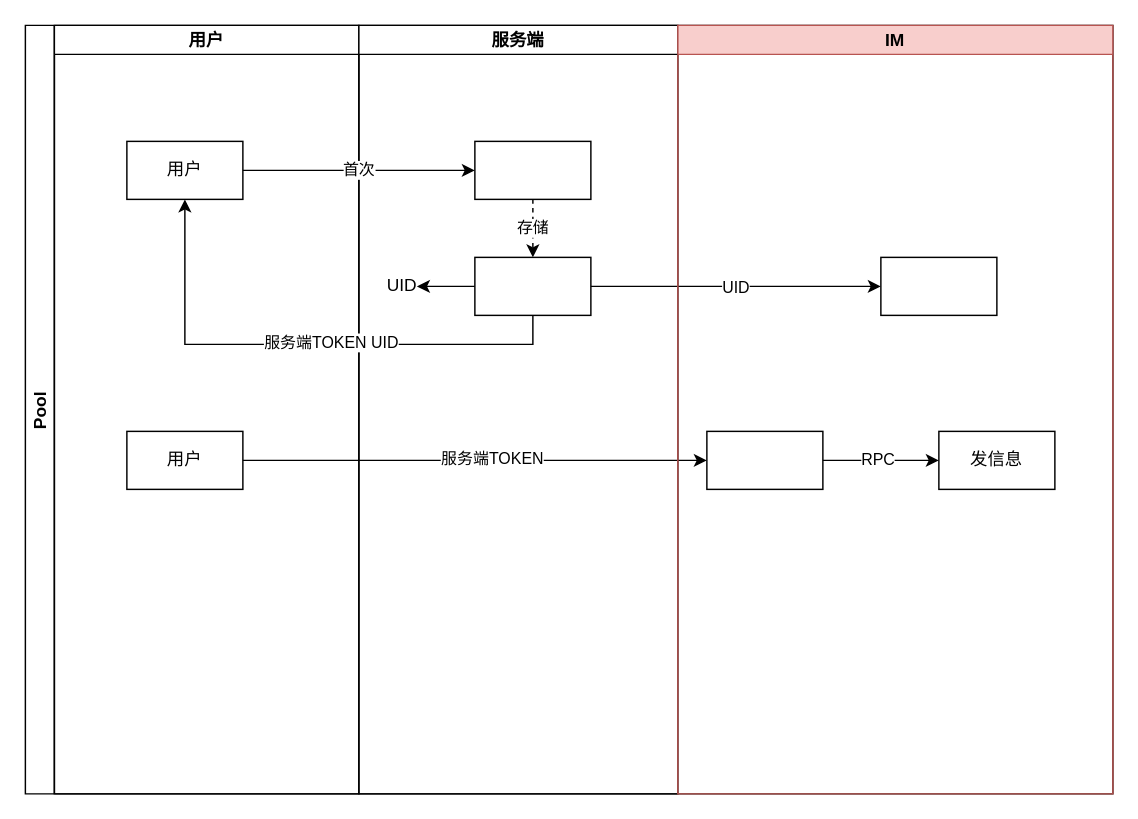
This 1138x819 diagram has some shape labels left out. Here are the shapes that lost their labels. From the top down, the centre of each, then its label:
the point at 532,169: UUID注册
the point at 532,285: SvrUser
the point at 938,285: User
the point at 764,459: 接口
